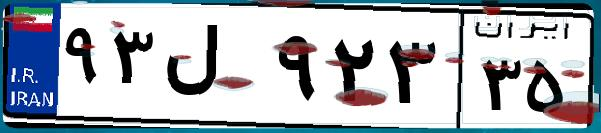2: (330, 28, 385, 110)
3: (385, 28, 445, 110), (475, 38, 525, 113), (110, 28, 158, 98)
5: (525, 38, 570, 115)
9: (270, 28, 330, 110), (57, 26, 110, 100)
ل: (158, 20, 270, 120)
